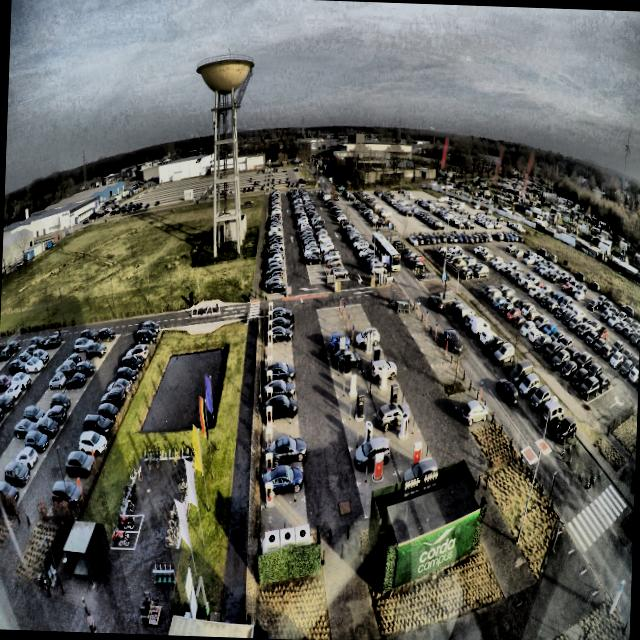cabinet: (264, 524, 310, 548)
car: (262, 465, 303, 500), (265, 435, 310, 464), (263, 394, 299, 422), (261, 379, 296, 401), (263, 362, 295, 382), (266, 325, 294, 342), (268, 315, 295, 331), (270, 306, 293, 321)
parking: (261, 498, 307, 539), (262, 470, 304, 505), (262, 445, 301, 474), (262, 421, 300, 449), (263, 401, 298, 427), (264, 365, 294, 388), (264, 385, 296, 404), (264, 354, 293, 369), (264, 343, 292, 357), (265, 333, 291, 347), (265, 312, 290, 326), (265, 322, 291, 335)
supercharger: (264, 482, 273, 505), (265, 453, 273, 472), (265, 406, 272, 427), (265, 428, 272, 446), (266, 387, 272, 401), (267, 370, 272, 384), (267, 356, 272, 368), (267, 343, 272, 355), (267, 331, 272, 342), (268, 302, 273, 312), (268, 311, 273, 319), (268, 321, 272, 329)
